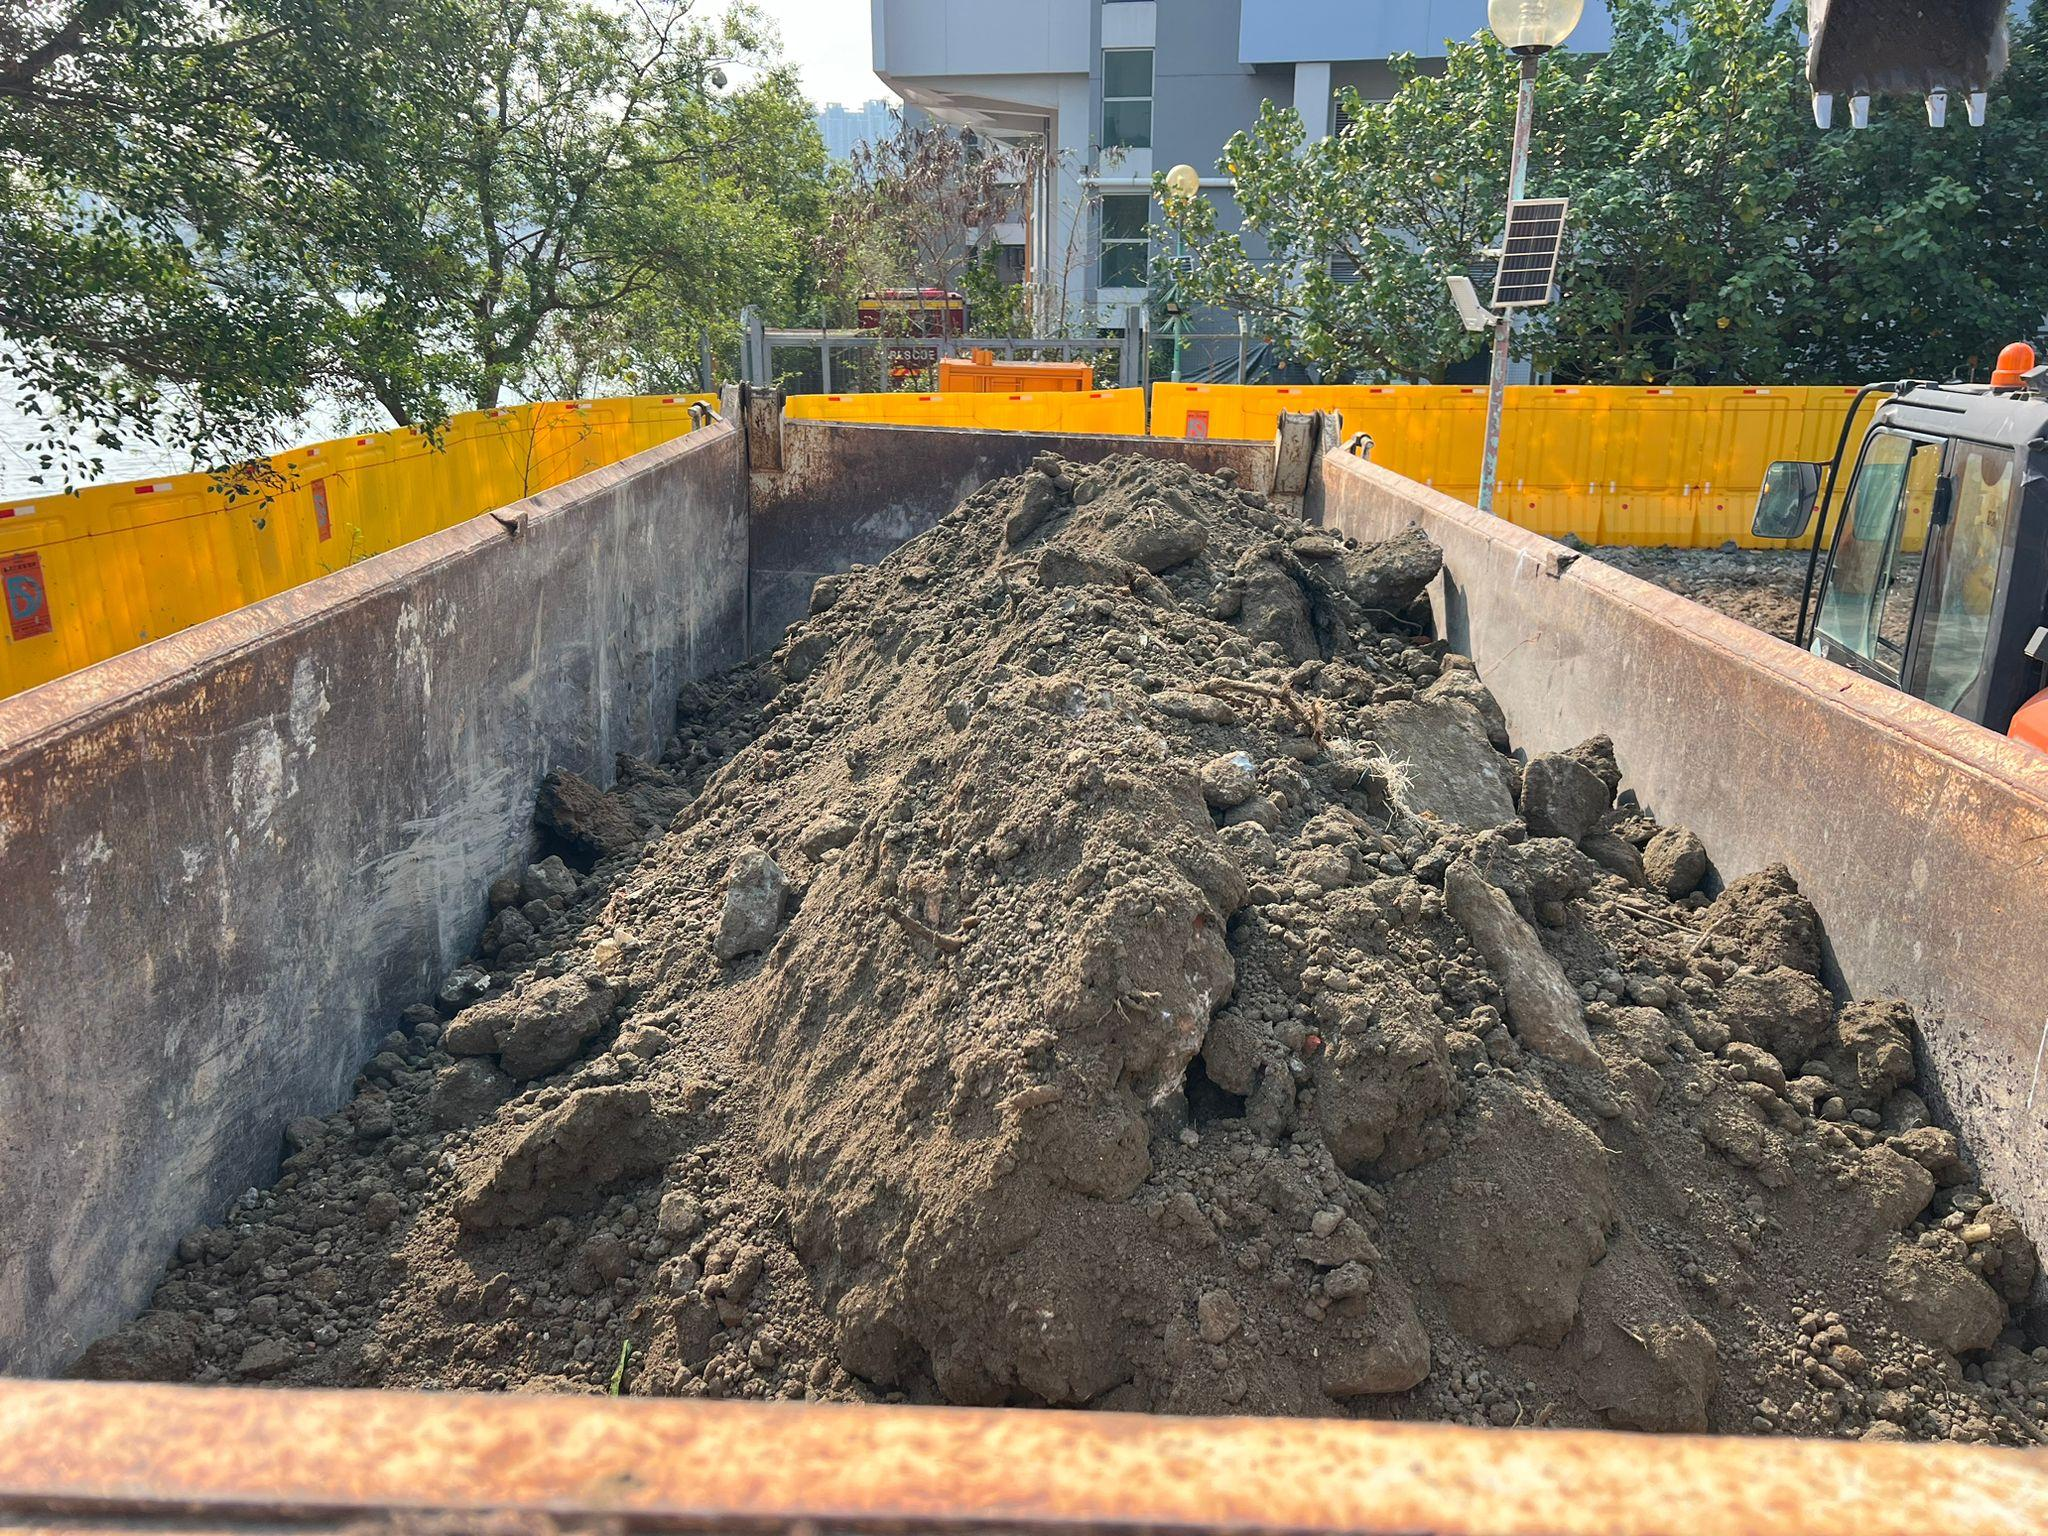wet: (97, 452, 2040, 1433)
